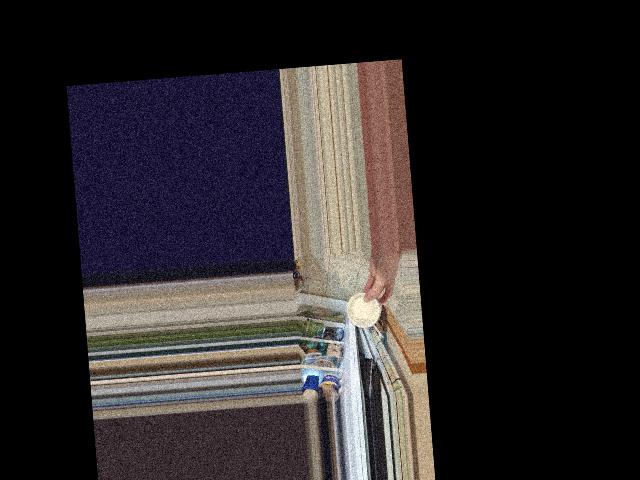cotage: (348, 290, 385, 327)
